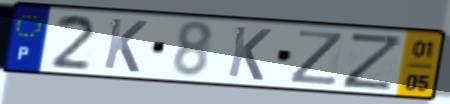2: (51, 13, 98, 70)
8: (170, 20, 216, 81)
K: (225, 24, 274, 83), (101, 16, 150, 75)
Z: (340, 31, 407, 93), (287, 28, 346, 88)
